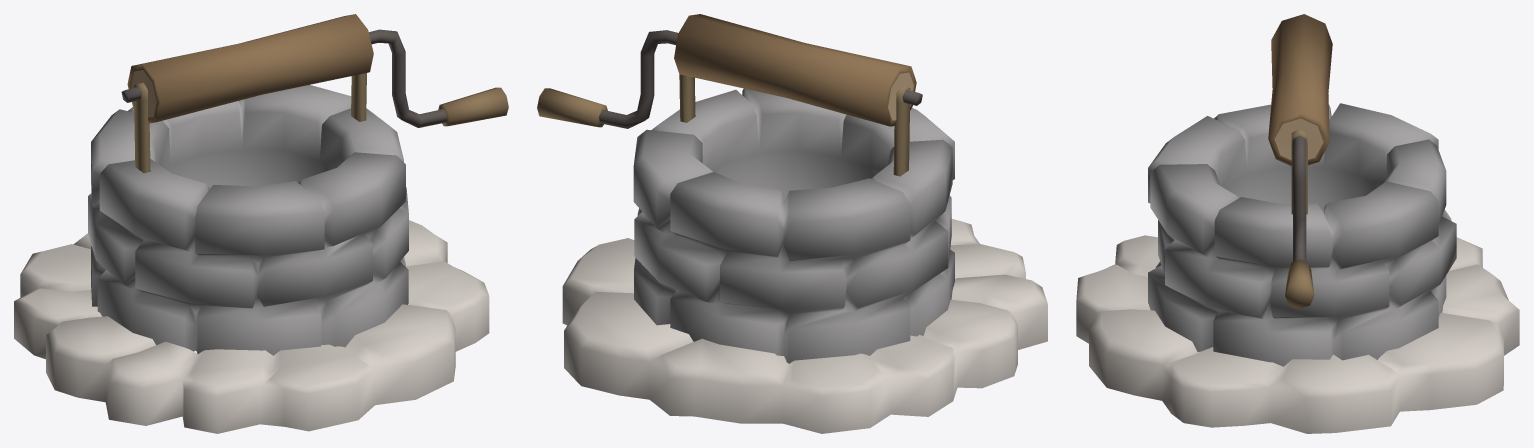
The model's file is rpgpp_ag_well_01.fbx.
The picture shows the model from 3 angles, left to right: view 1: azimuth 30°, elevation 25°; view 2: azimuth 150°, elevation 25°; view 3: azimuth 270°, elevation 25°; orthographic projection. The views are drawn at different scales.
Visible parts, largest first — view 1: rpgpp_ag_well_01; view 2: rpgpp_ag_well_01; view 3: rpgpp_ag_well_01.
Part boxes in pixels (x1,y1,x2,y2): rpgpp_ag_well_01: (14, 14, 508, 433); rpgpp_ag_well_01: (537, 14, 1047, 433); rpgpp_ag_well_01: (1076, 14, 1519, 433).
Bounding box in the file's own units: 2.55 × 1.56 × 2.25.
